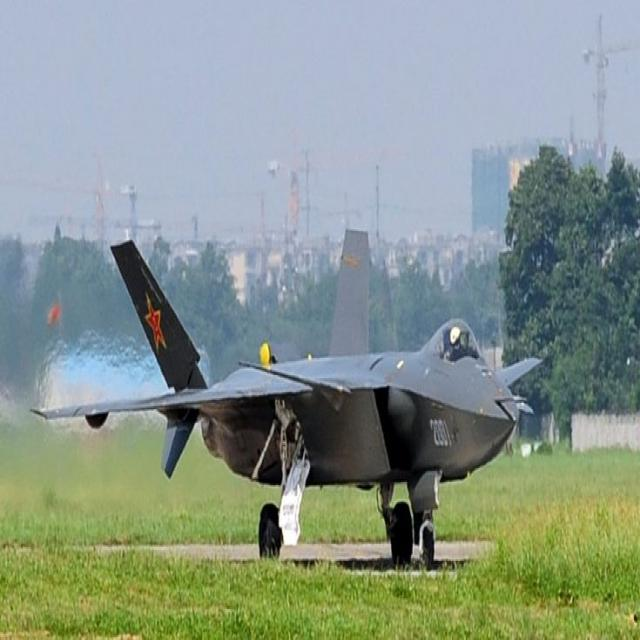MIL_Plane: (29, 226, 543, 572)
